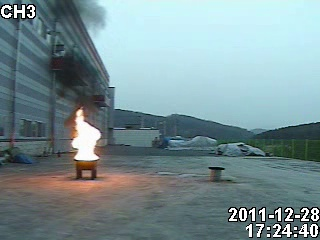fire: (70, 105, 102, 160)
